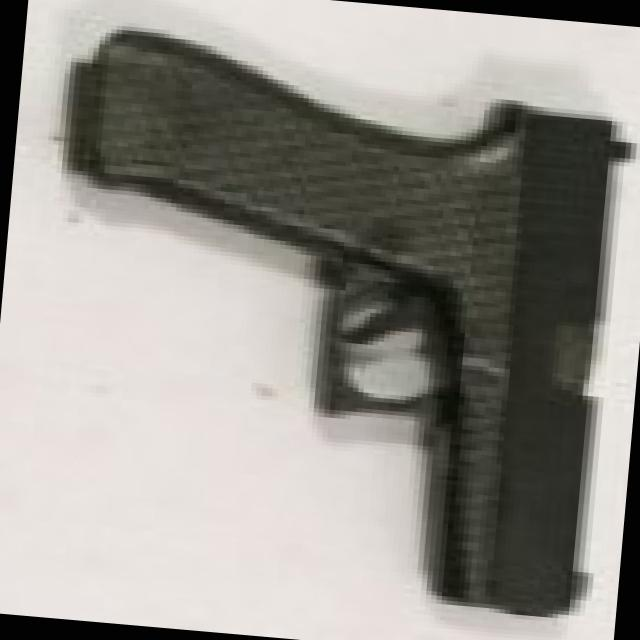handgun: (40, 19, 639, 623)
